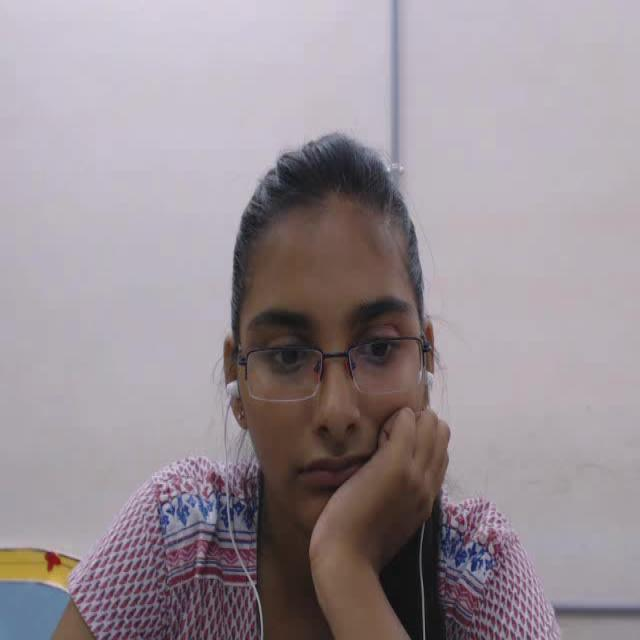Bored: (197, 107, 465, 543)
